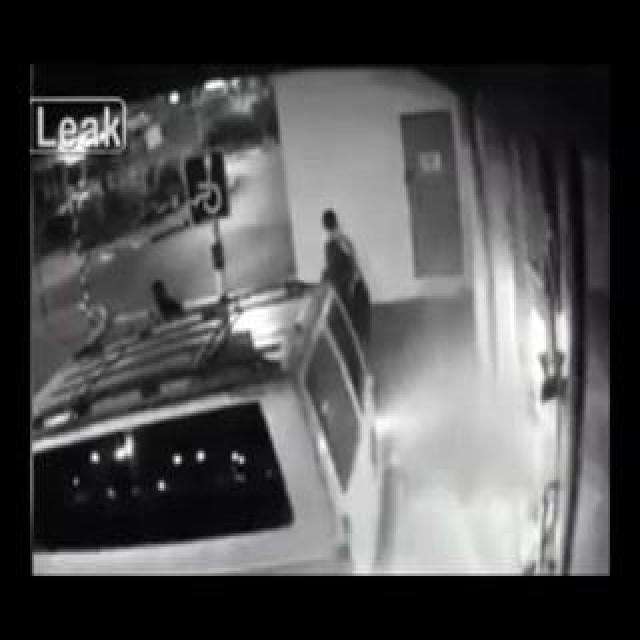burglary: (439, 212, 578, 538)
